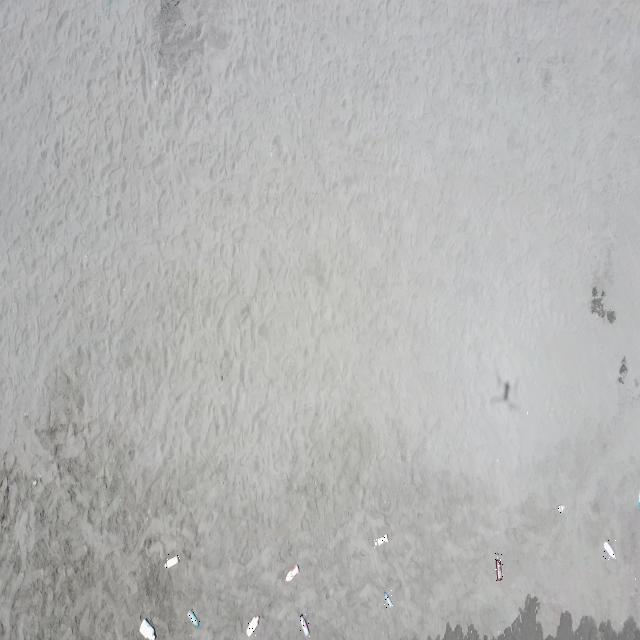Garbage: (489, 375, 517, 407), (139, 617, 155, 639), (246, 615, 258, 635), (284, 564, 298, 580), (495, 552, 502, 580), (604, 540, 615, 557), (373, 533, 387, 546), (164, 555, 179, 567), (188, 609, 198, 627), (300, 613, 307, 636), (384, 591, 392, 607), (557, 504, 564, 512), (636, 492, 639, 507), (32, 479, 36, 486), (603, 555, 604, 556)
